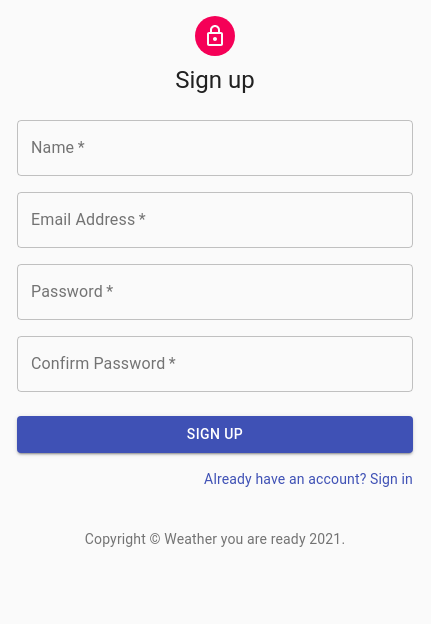
Test: checkSignup › error messages shown when submit form with empty fields
Click the button with test id "submit" at (215, 434), box [17,416,413,452]
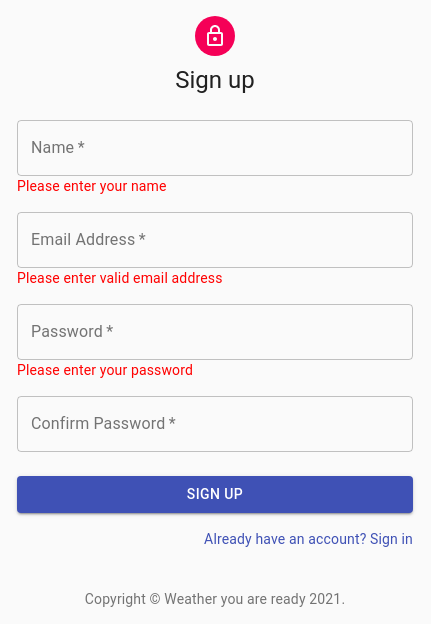
Result: the text "Please enter your name" is shown at [17,178,167,194]
Result: the text "Please enter valid email address" is shown at [17,270,222,286]
Result: the text "Please enter your password" is shown at [17,362,193,378]
